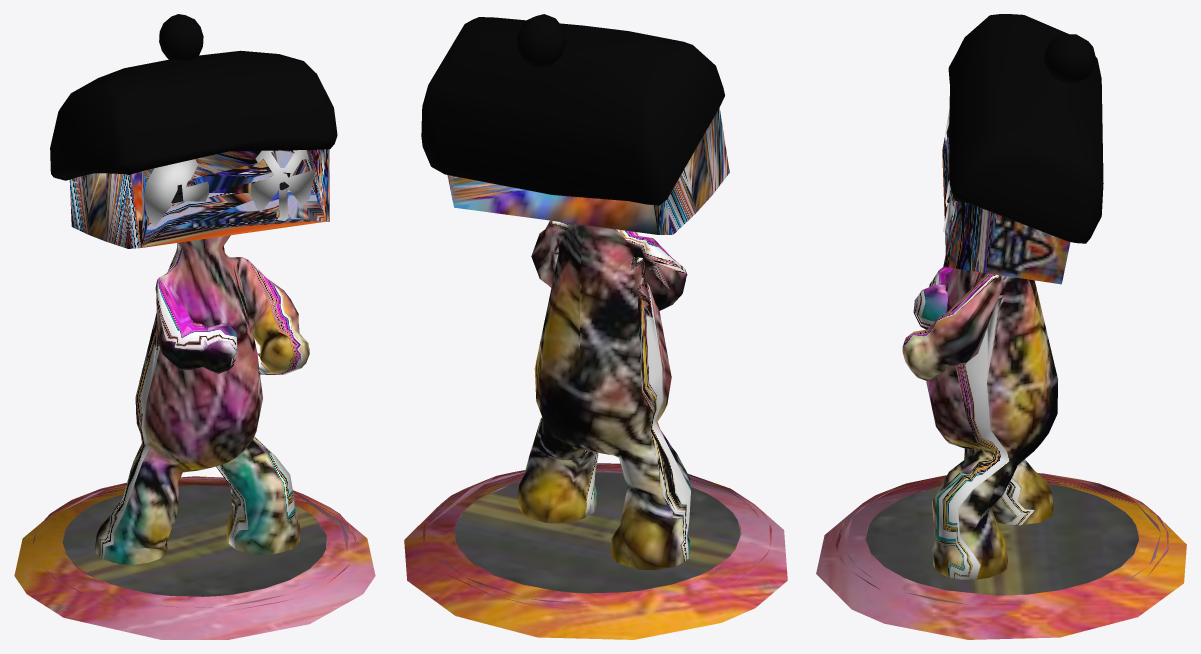
3 views of the same model, side by side, from view 1: azimuth 30°, elevation 25°; view 2: azimuth 150°, elevation 25°; view 3: azimuth 270°, elevation 25° (orthographic). The views are drawn at different scales.
Size of the model in its own units: 1.43 by 2.27 by 1.42.
7 materials, 4 textured.
